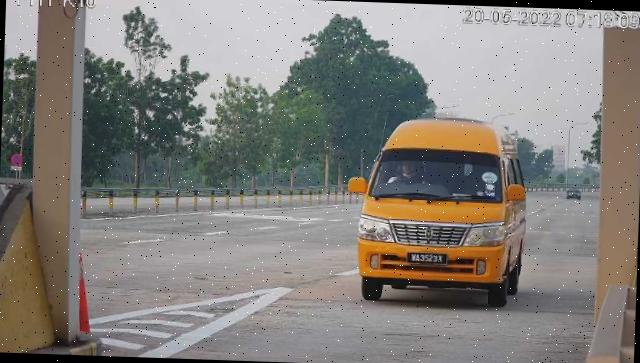License_Plate: (405, 251, 450, 269)
van: (357, 116, 532, 310)
